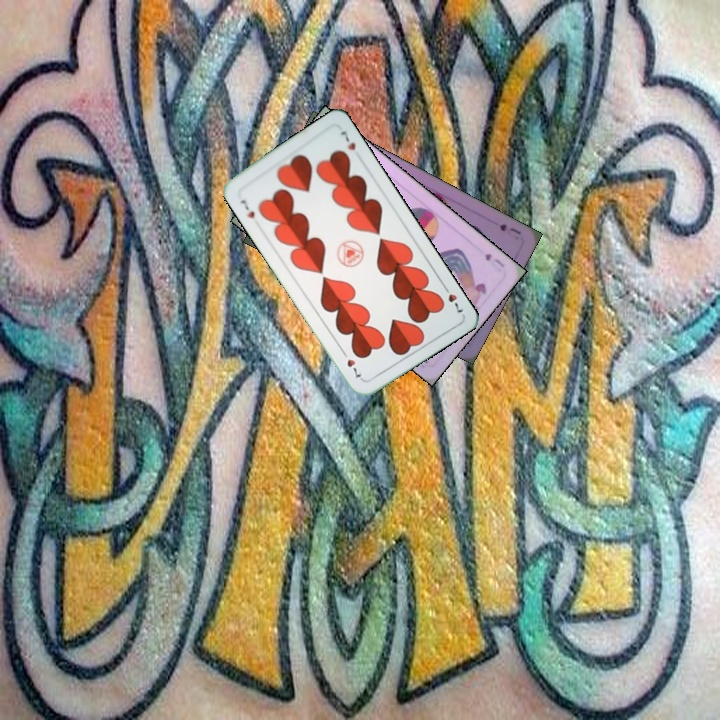H7: (438, 281, 466, 315), (236, 195, 257, 220)
SU: (480, 249, 507, 270), (496, 220, 524, 238)
